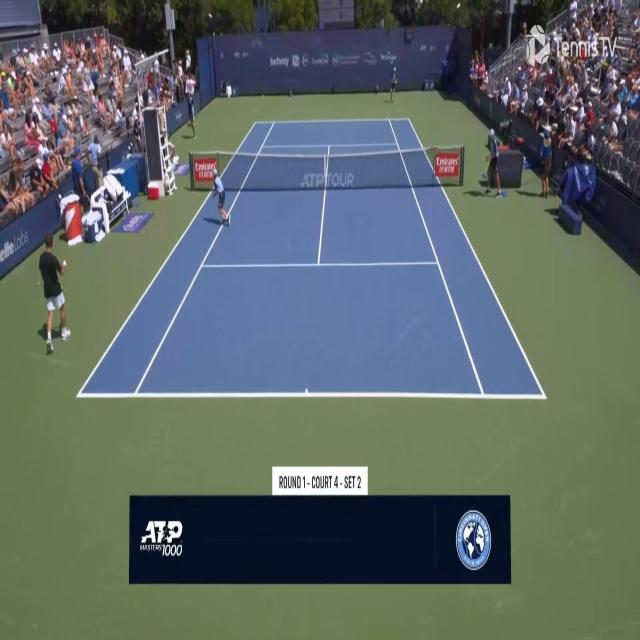tennis-player: (34, 230, 75, 356)
